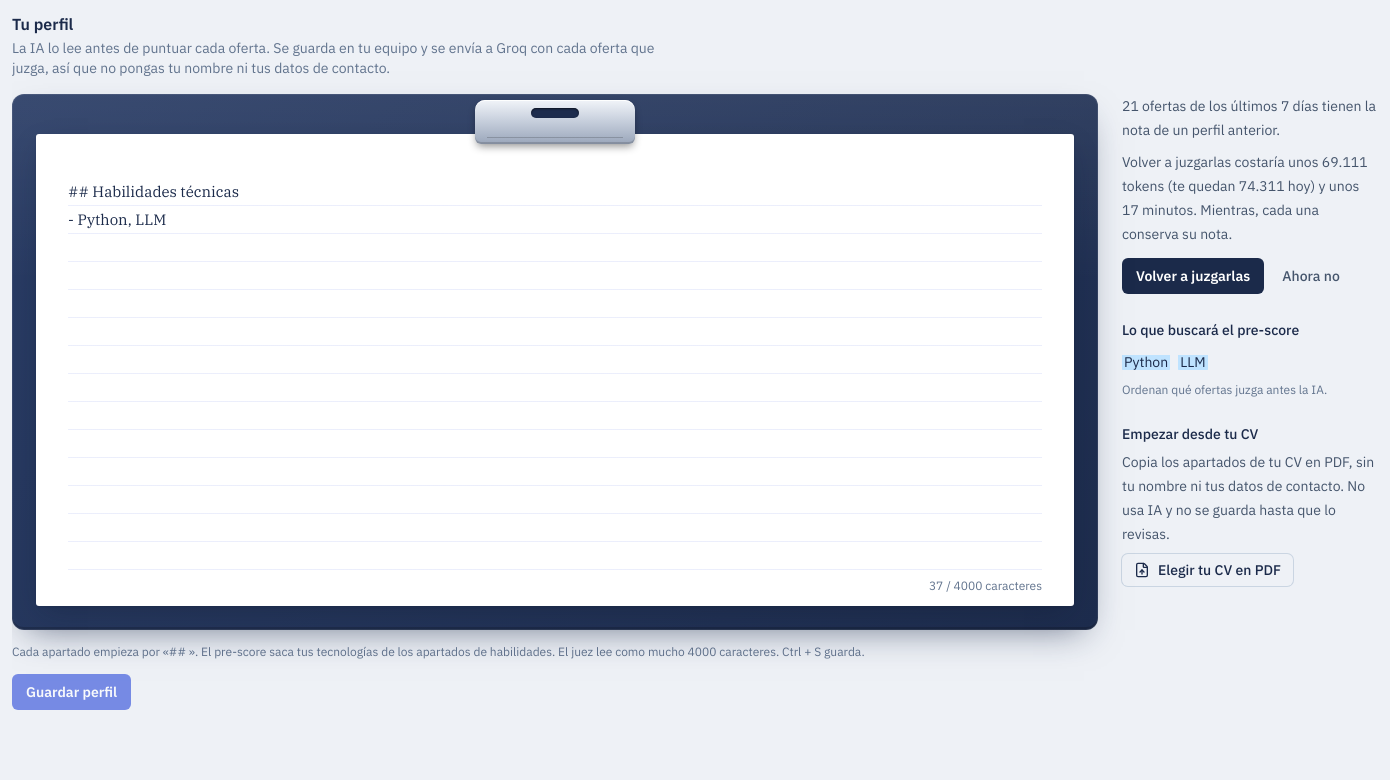
ProfileEditor › "Ahora no" deja las notas como están
Click the button "Ahora no".
click(1311, 276)  # box [1272,258,1350,294]
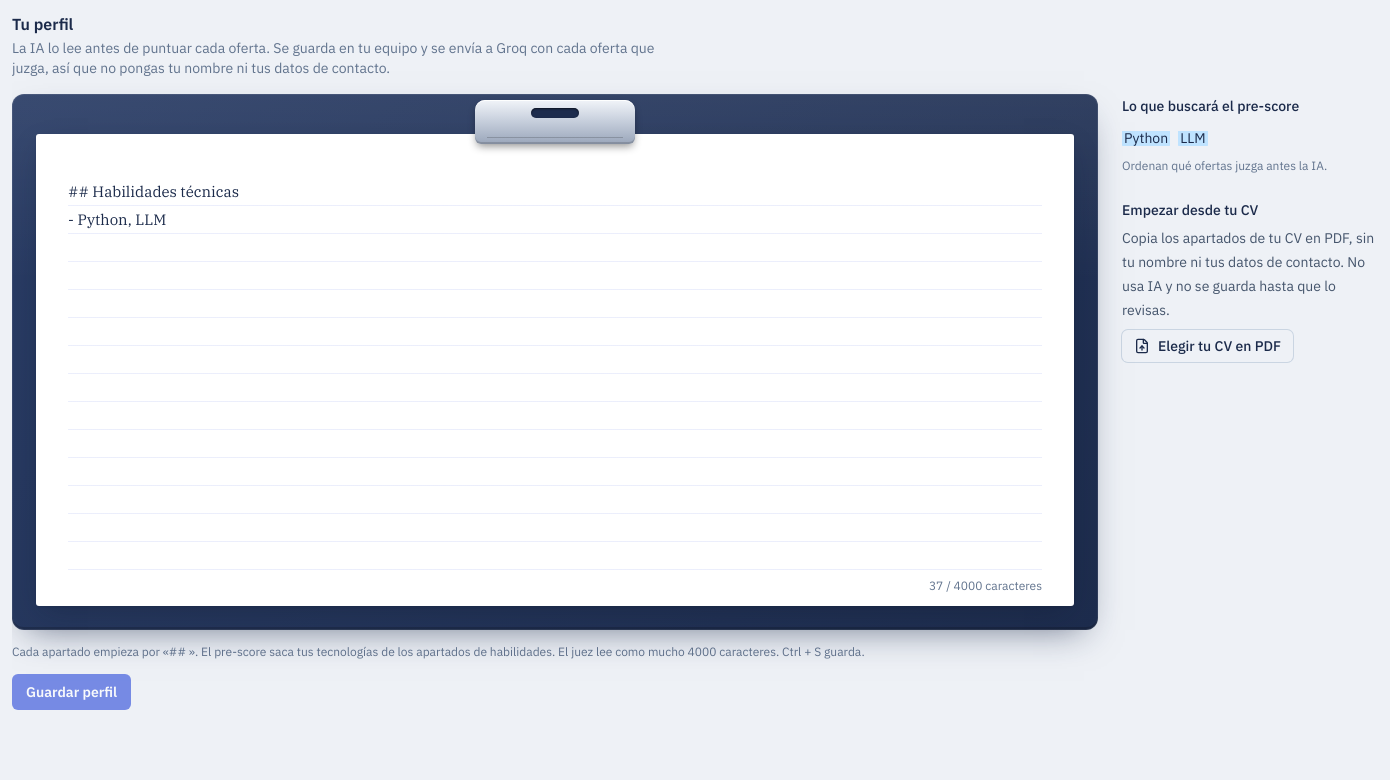
Expected: the text "tienen la nota de un perfil anterior" is gone
